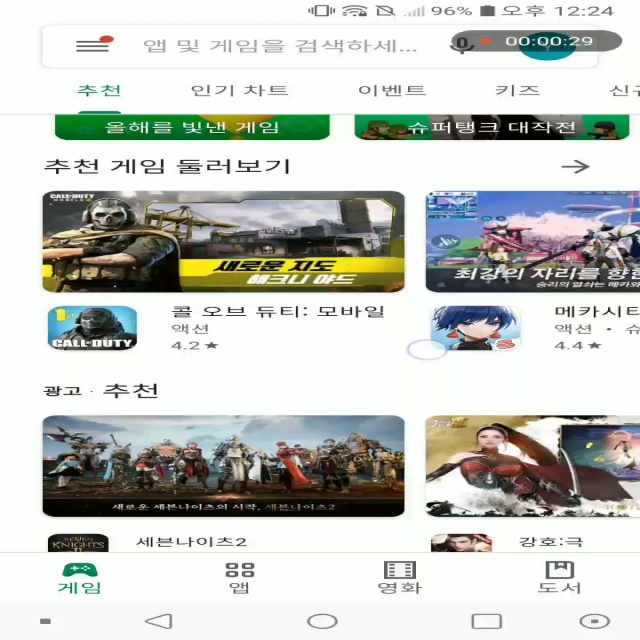Cursor: (406, 340, 450, 362)
